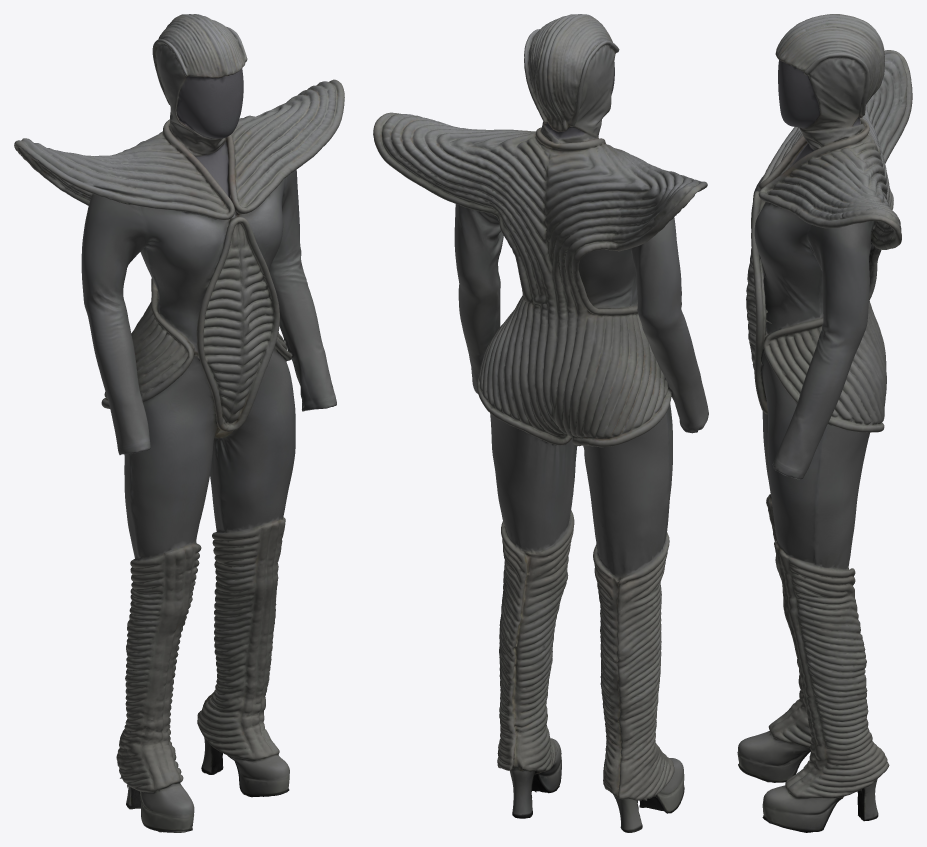
Rendered from spaceCostume.gltf.
3 views of the same model, side by side, from view 1: azimuth 30°, elevation 25°; view 2: azimuth 150°, elevation 25°; view 3: azimuth 270°, elevation 25° (orthographic). The views are drawn at different scales.
Parts seen in each view (by area): view 1: gltf_std; view 2: gltf_std; view 3: gltf_std.
Boxes of the visible parts, left/top/right/bottom form: gltf_std: left=14, top=14, right=344, bottom=832; gltf_std: left=373, top=14, right=708, bottom=832; gltf_std: left=737, top=14, right=912, bottom=832.
Size of the model in its own units: 0.7146 by 1.66 by 0.335.
Materials: 1 (1 with a texture image).
